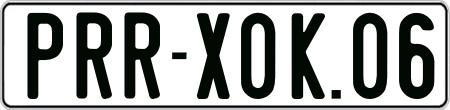0: (351, 11, 389, 102), (240, 12, 275, 102)
6: (398, 12, 435, 98)
K: (289, 12, 325, 98)
P: (24, 10, 65, 99)
R: (74, 9, 116, 99), (124, 10, 163, 100)
X: (196, 13, 232, 99)
